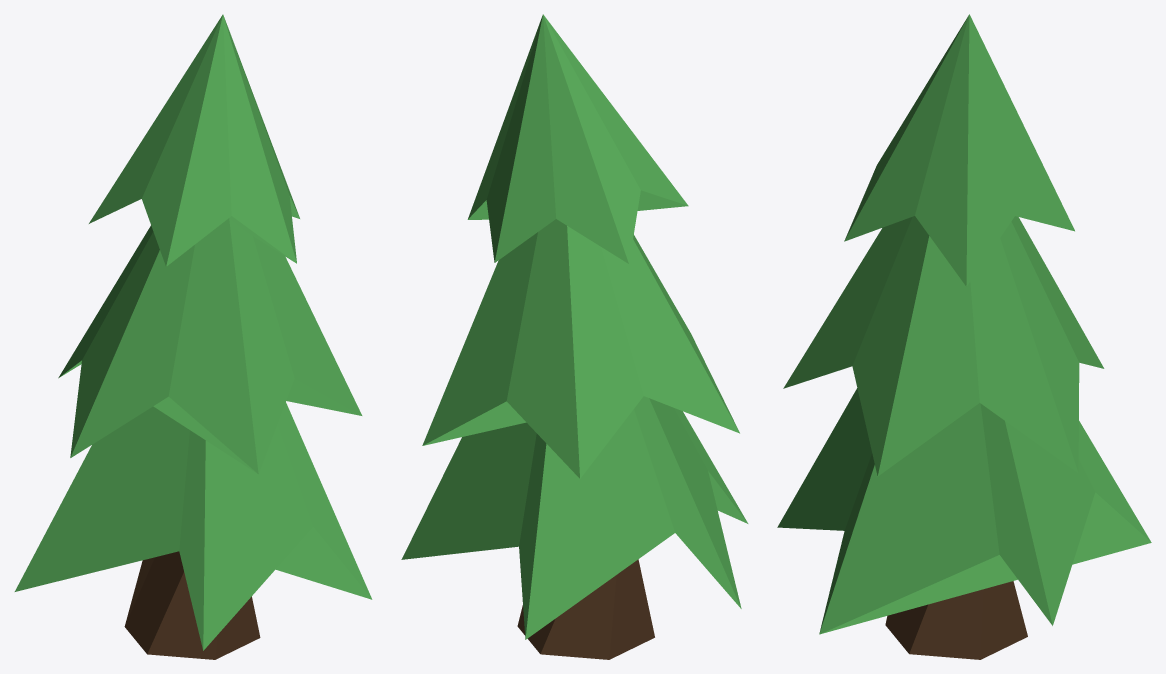
3 views of the same model, side by side, from view 1: azimuth 30°, elevation 25°; view 2: azimuth 150°, elevation 25°; view 3: azimuth 270°, elevation 25° (orthographic). The views are drawn at different scales.
Parts seen in each view (by area): view 1: fir1; view 2: fir1; view 3: fir1.
Boxes of the visible parts, bbox=[...] form: fir1: bbox=[14, 14, 372, 659]; fir1: bbox=[401, 14, 748, 659]; fir1: bbox=[777, 14, 1151, 659].
Bounding box in the file's own units: 344 × 658 × 351.
